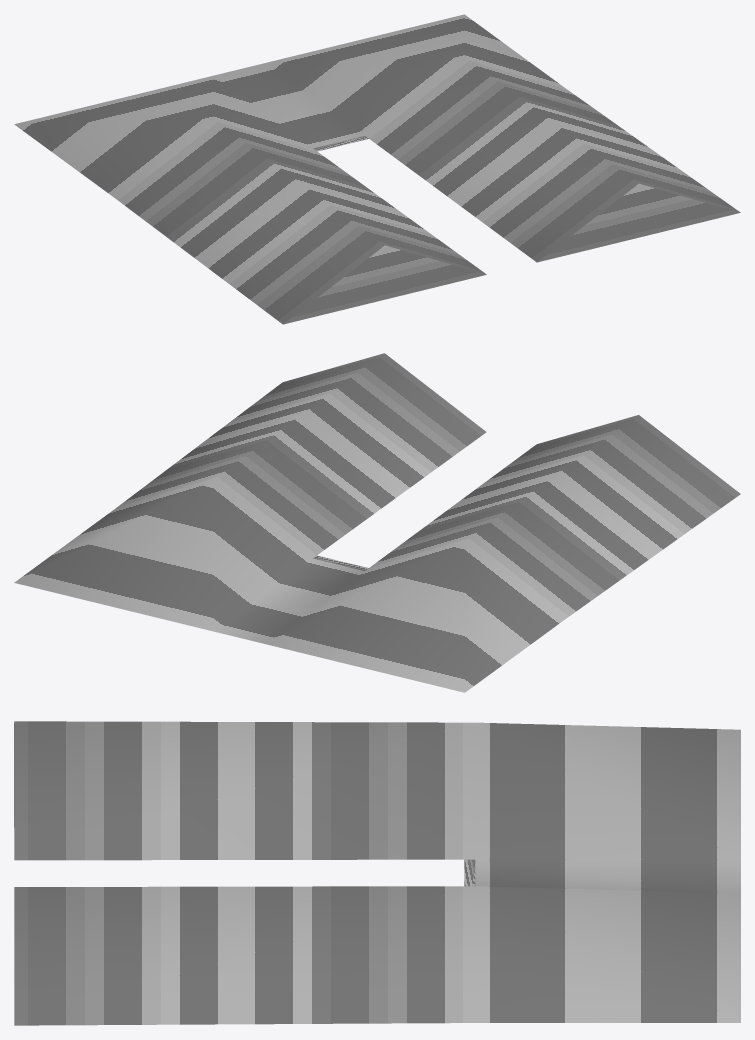
Rendered from 5838pants000_c.gltf.
The picture shows the model from 3 angles, top to bottom: view 1: azimuth 30°, elevation 25°; view 2: azimuth 150°, elevation 25°; view 3: azimuth 270°, elevation 25°; orthographic projection. The views are drawn at different scales.
Parts seen in each view (by area): view 1: 5838pants000_c; view 2: 5838pants000_c; view 3: 5838pants000_c.
Part boxes in pixels (x1,y1,x2,y2): 5838pants000_c: (14,14,740,324); 5838pants000_c: (14,353,740,692); 5838pants000_c: (14,721,740,1025).
Size of the model in its own units: 0.7793 by 0.0884 by 0.803.
Materials: 1 (1 with a texture image).
